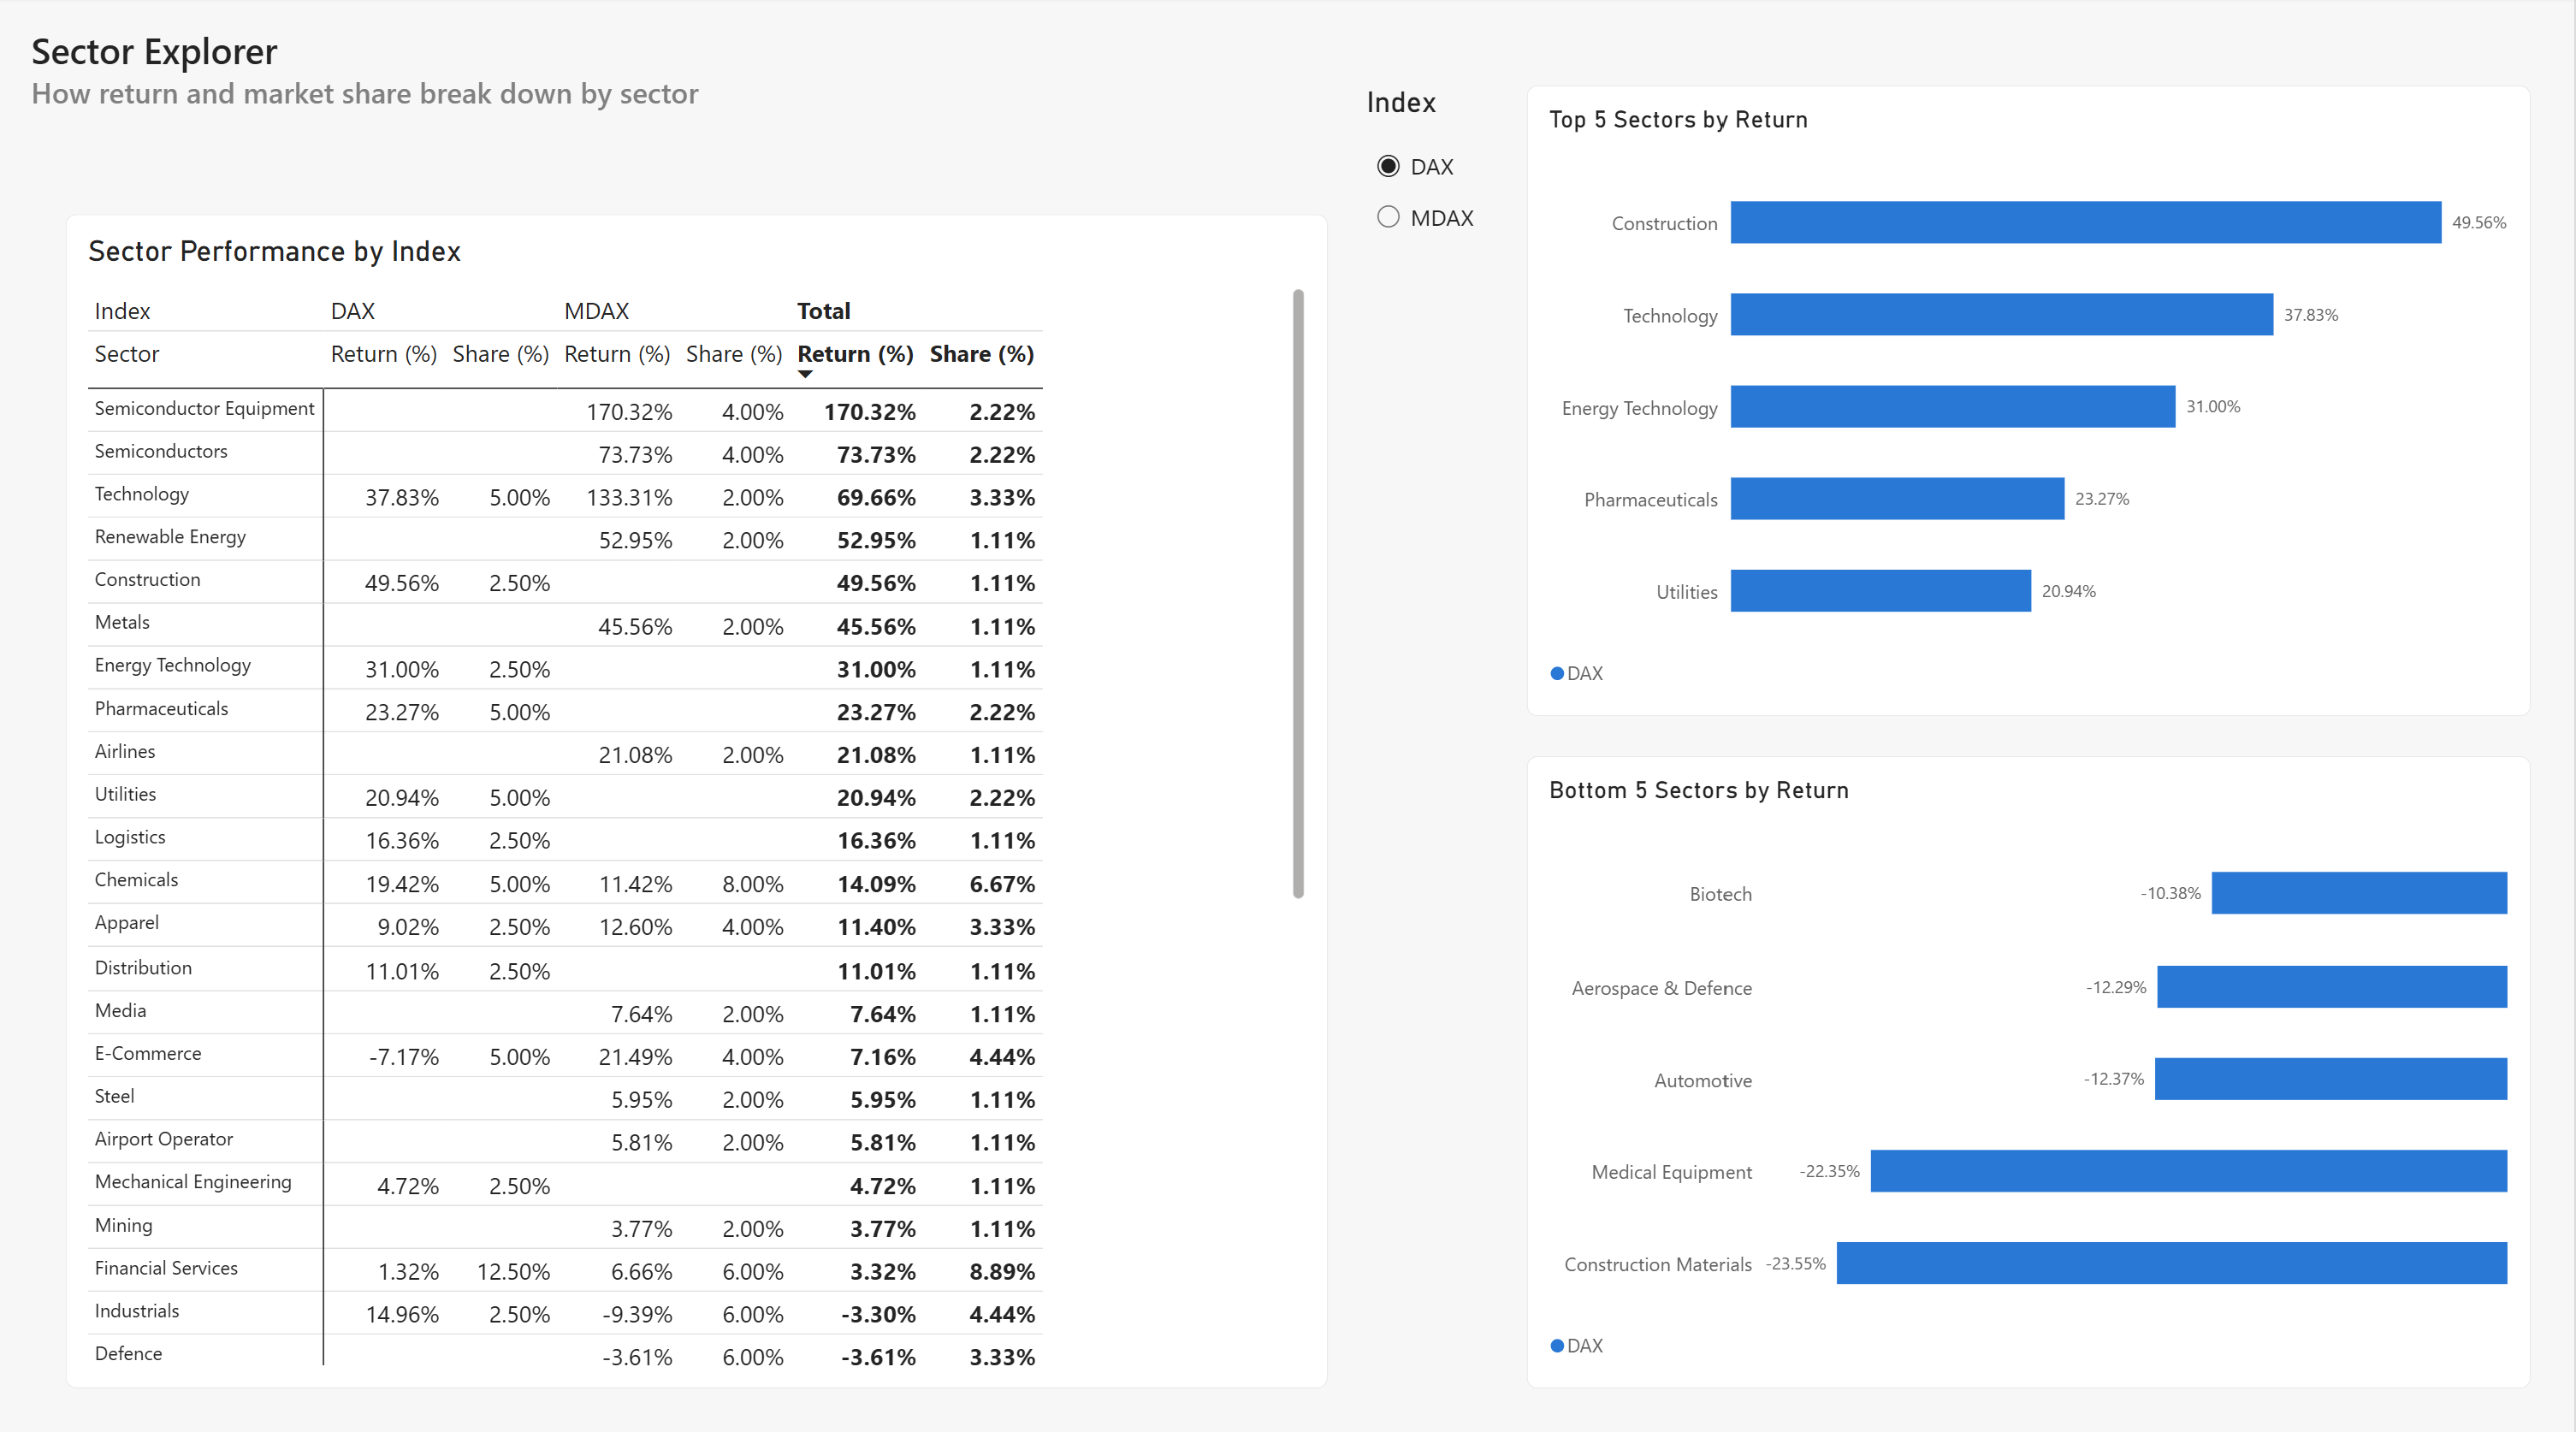

Layout of this report page (visuals, bound fields, positions):
{"tool":"powerbi","page":{"name":"Sector Explorer","canvas":[1920,1080],"ordinal":3},"visuals":[{"type":"clusteredBarChart","title":"Top 5 Sectors by Return","fields":{"Category":["Dim_Company.sector"],"Series":["Dim_Company.index_group"],"Y":["_Mesures.Ø Rendite (kontextabhängig)"]},"box":[1140,67,748.1,470.1],"z":4000},{"type":"clusteredBarChart","title":"Bottom 5 Sectors by Return","fields":{"Category":["Dim_Company.sector"],"Series":["Dim_Company.index_group"],"Y":["_Mesures.Ø Rendite (kontextabhängig)"]},"box":[1140,567.2,748.1,470.1],"z":5000},{"type":"pivotTable","title":"Sector Performance by Index","fields":{"Columns":["Dim_Company.index_group"],"Rows":["Dim_Company.sector"],"Values":["_Mesures.Ø Rendite (kontextabhängig)","_Mesures.Anzahl Unternehmen"]},"box":[50.2,163,941.2,874.2],"z":5001},{"type":"slicer","title":"Index","fields":{"Values":["Dim_Company.index_group"]},"box":[1020.5,67,119.2,122],"z":5002},{"type":"textbox","box":[24.1,22.7,513.6,89.4],"z":5003}]}

Visuals, with their boxes in screenshot pixels (x1, y1, x2, y2), scaled from the page's 1920x1080 canvas onto the 2576x1432 screenshot:
"Top 5 Sectors by Return" clusteredBarChart: [left=1530, top=89, right=2533, bottom=713]
"Bottom 5 Sectors by Return" clusteredBarChart: [left=1530, top=752, right=2533, bottom=1376]
"Sector Performance by Index" pivotTable: [left=68, top=216, right=1330, bottom=1376]
"Index" slicer: [left=1369, top=89, right=1529, bottom=251]
textbox: [left=33, top=30, right=721, bottom=149]
